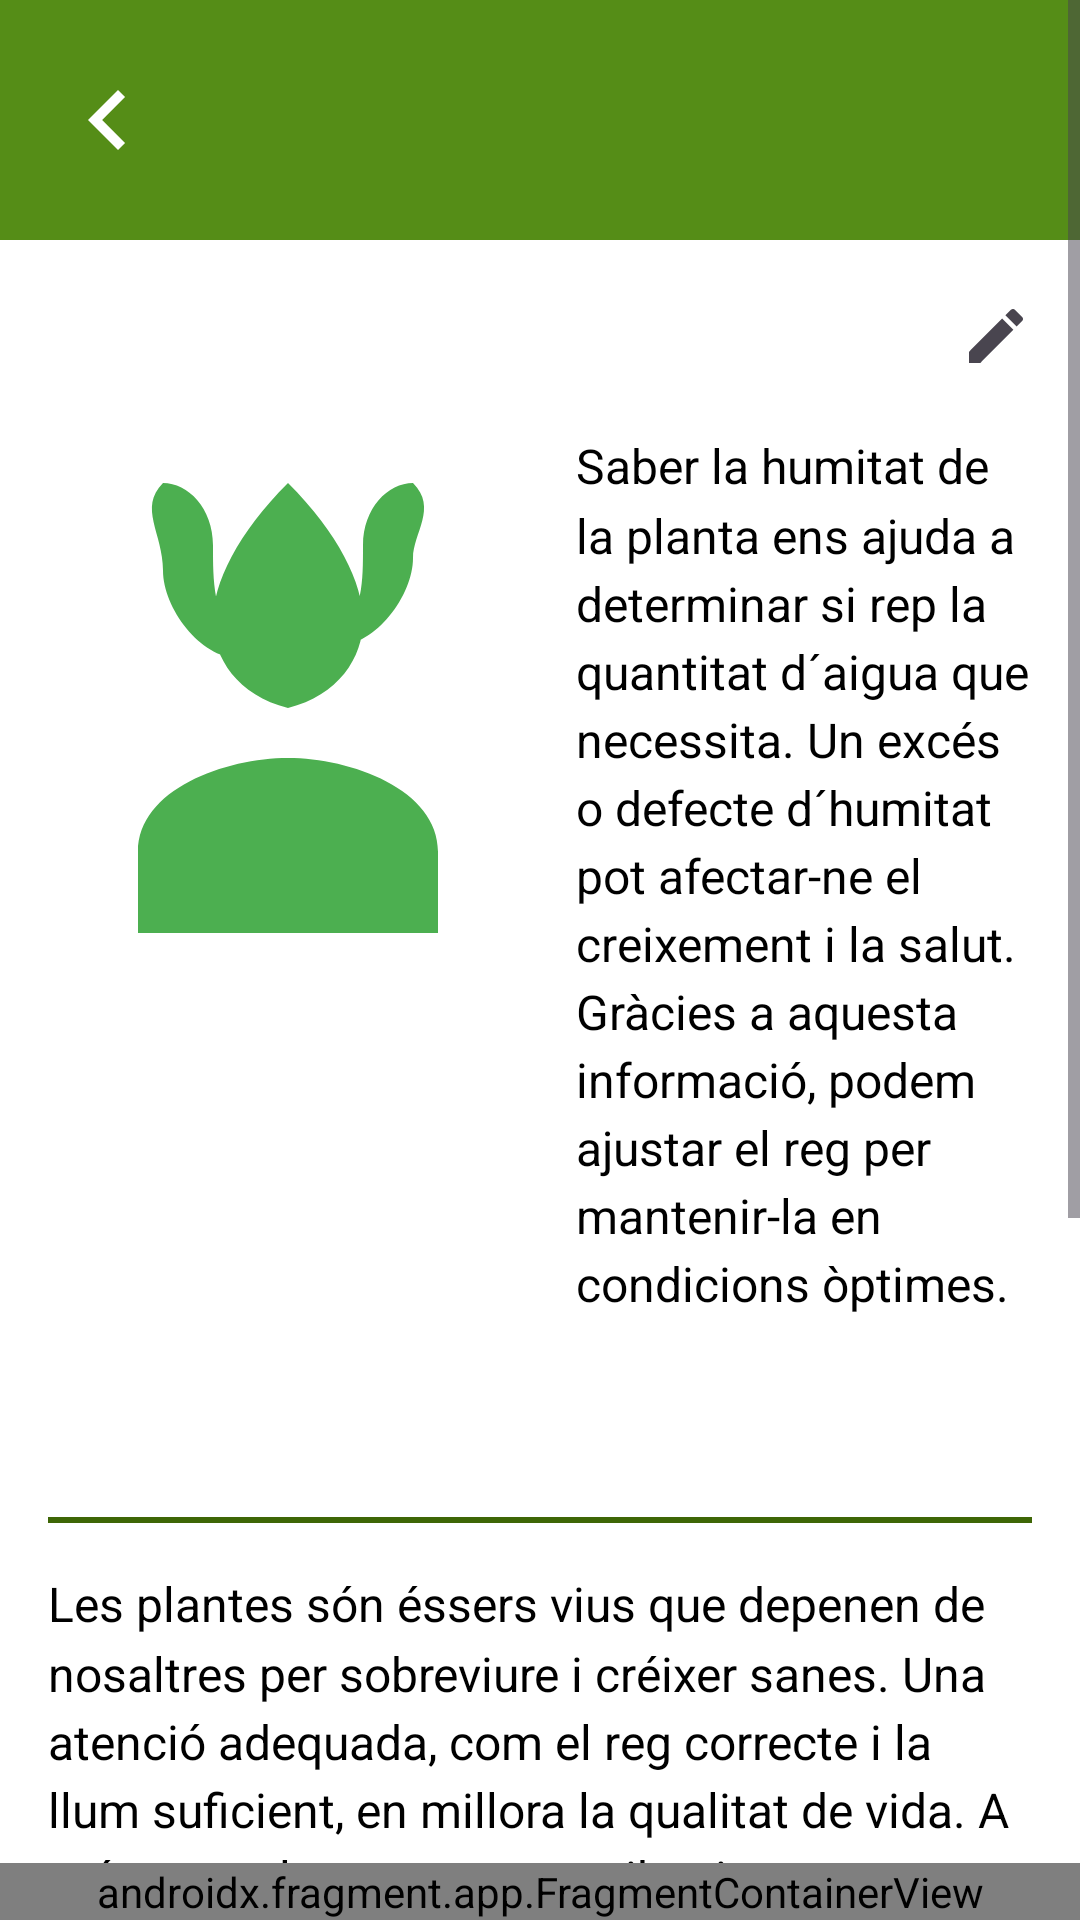

Locate icon controls on the screen. Image size 1080 x 1920, boxes as (left=x1, top=y1, right=x2, bottom=y2).
arrow left: (left=88, top=90, right=125, bottom=150)
edit: (left=969, top=309, right=1023, bottom=363)
